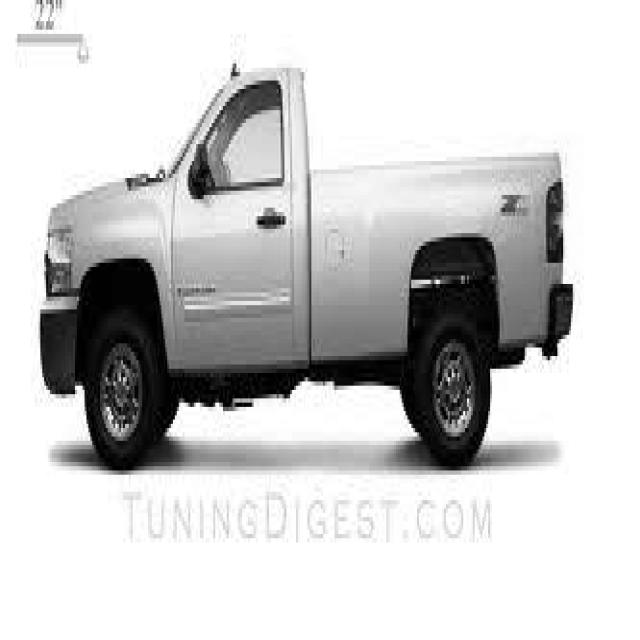car: (38, 59, 573, 470)
